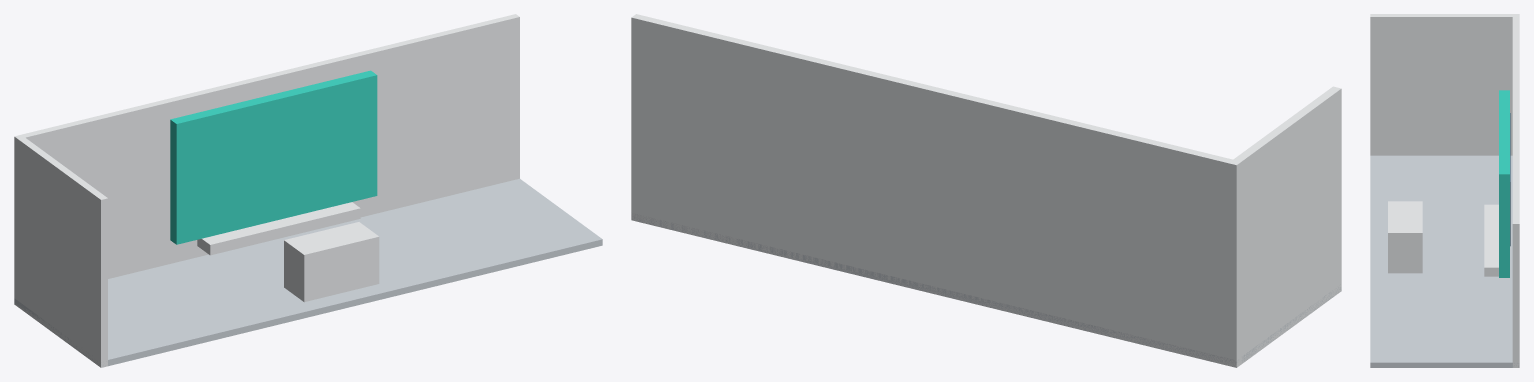
3 renders of one model, left to right at view 1: azimuth 30°, elevation 25°; view 2: azimuth 150°, elevation 25°; view 3: azimuth 270°, elevation 25°, orthographic. The views are drawn at different scales.
Visible parts, largest first — view 1: Exhibition Booth Concept; view 2: Exhibition Booth Concept; view 3: Exhibition Booth Concept.
Boxes of the visible parts, x1=… form: Exhibition Booth Concept: x1=14, y1=14, x2=602, y2=367; Exhibition Booth Concept: x1=631, y1=14, x2=1341, y2=367; Exhibition Booth Concept: x1=1370, y1=14, x2=1519, y2=367.
Size of the model in its own units: 10 by 3.2 by 3.
